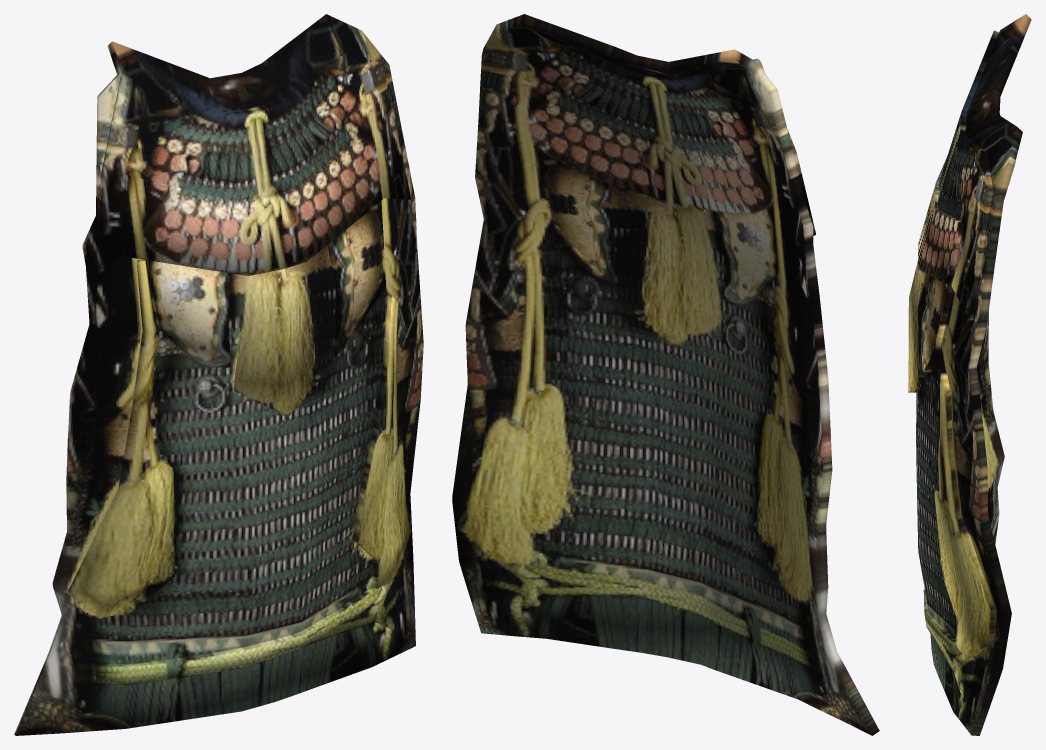
The model's file is armor_body_front.fbx.
3 renders of one model, left to right at view 1: azimuth 30°, elevation 25°; view 2: azimuth 150°, elevation 25°; view 3: azimuth 270°, elevation 25°, orthographic. The views are drawn at different scales.
Visible parts, largest first — view 1: armor_body_front; view 2: armor_body_front; view 3: armor_body_front.
Boxes of the visible parts, x1,y1,x2,y2 form: armor_body_front: [14, 14, 423, 735]; armor_body_front: [452, 14, 879, 735]; armor_body_front: [908, 14, 1031, 735].
Size of the model in its own units: 48.39 by 74.49 by 13.87.
Materials: 1 (1 with a texture image).
